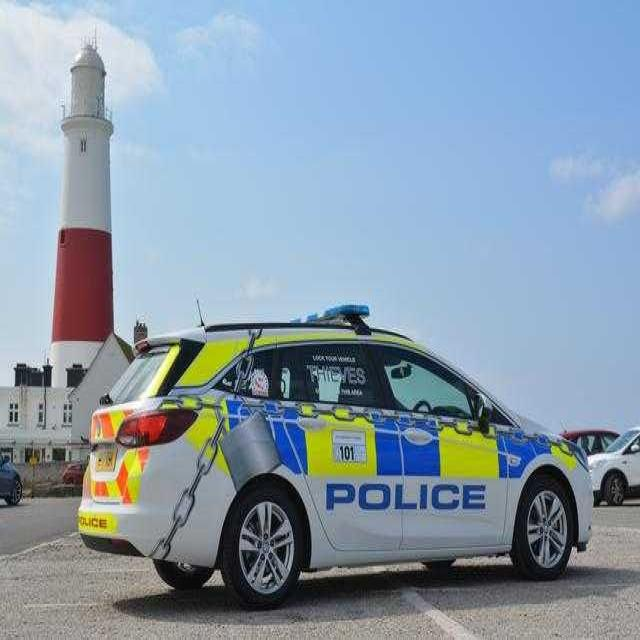firetruck: (76, 279, 640, 640)
